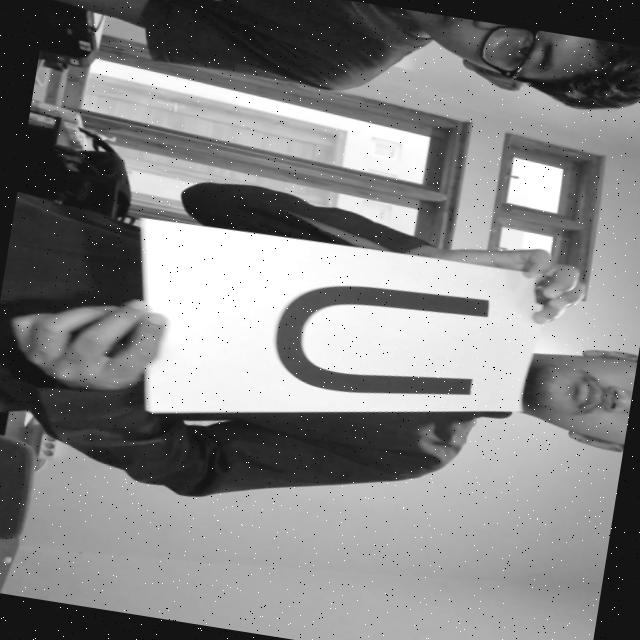u: (258, 253, 510, 437)
